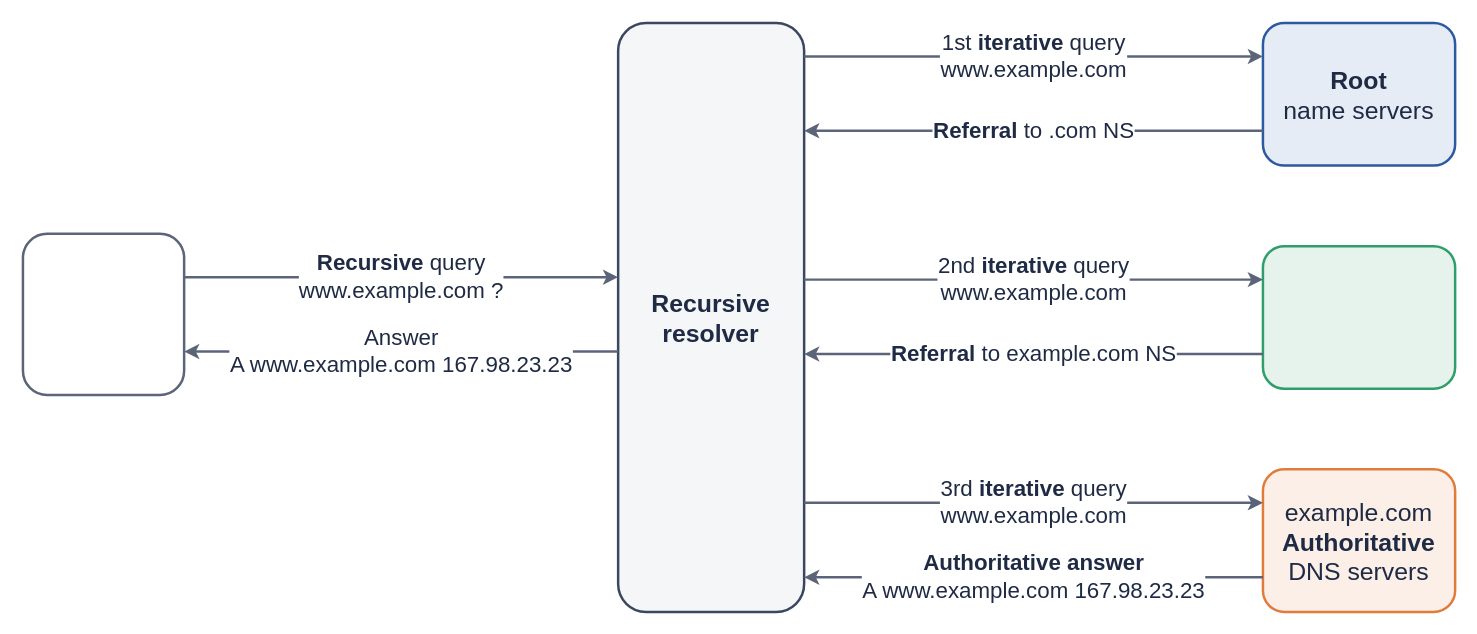
Some shapes in this 1477 by 634 pixel diagram are drawn without their labels. Here are the shapes that lost their labels. From the top down, the centre of each, then its label:
the point at 103,314: Client
the point at 1358,316: .com TLD name servers
